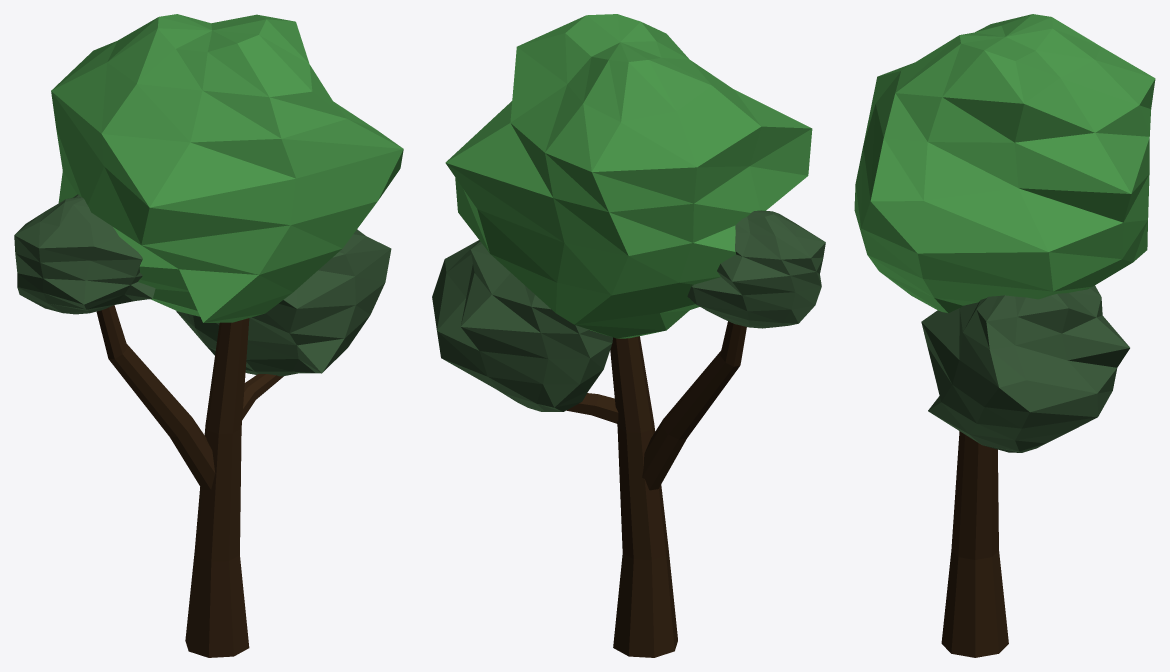
File: Tree3.fbx
3 renders of one model, left to right at view 1: azimuth 30°, elevation 25°; view 2: azimuth 150°, elevation 25°; view 3: azimuth 270°, elevation 25°, orthographic.
Parts seen in each view (by area): view 1: pSphere4; view 2: pSphere4; view 3: pSphere4.
Boxes of the visible parts, left/top/right/bottom form: pSphere4: left=14, top=14, right=403, bottom=657; pSphere4: left=432, top=14, right=825, bottom=657; pSphere4: left=854, top=14, right=1155, bottom=657.
Size of the model in its own units: 14.73 by 23 by 10.12.
